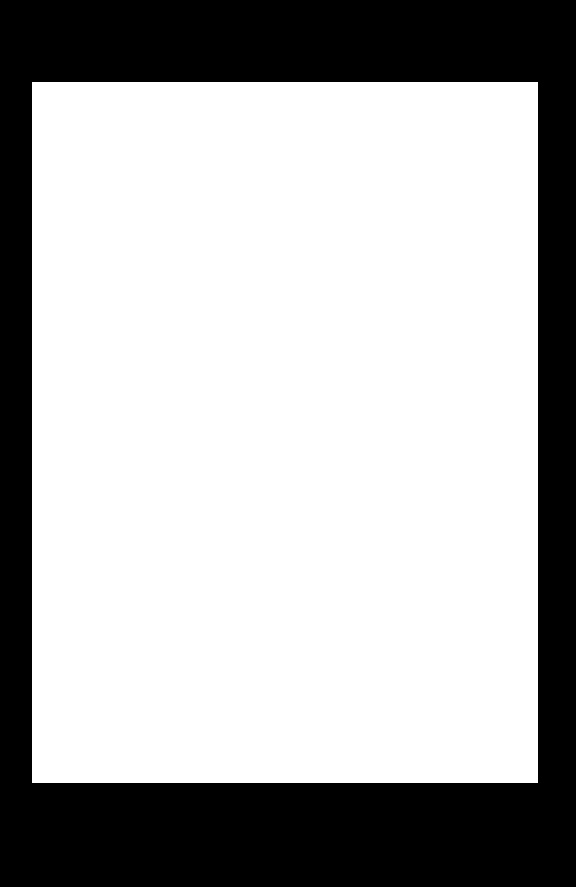table: (32, 82, 537, 782)
